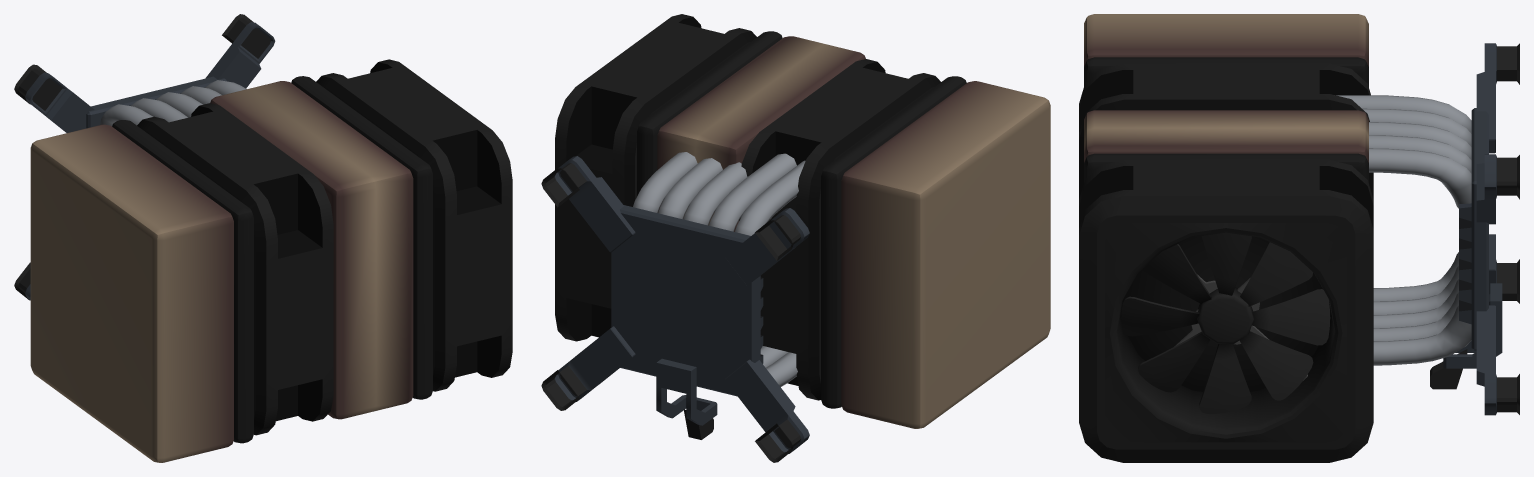
File: Cooling_systems_lvl_07_V07.fbx
3 renders of one model, left to right at view 1: azimuth 30°, elevation 25°; view 2: azimuth 150°, elevation 25°; view 3: azimuth 270°, elevation 25°, orthographic. The views are drawn at different scales.
Parts seen in each view (by area): view 1: Body_Cooling; view 2: Body_Cooling; view 3: Body_Cooling, Fan_Cooling.
Part boxes in pixels (x1,y1,x2,y2): Body_Cooling: (14,14,512,462); Body_Cooling: (541,14,1050,462); Body_Cooling: (1079,14,1519,462); Fan_Cooling: (1121,232,1330,413).
Size of the model in its own units: 64.36 by 44.13 by 61.7.
